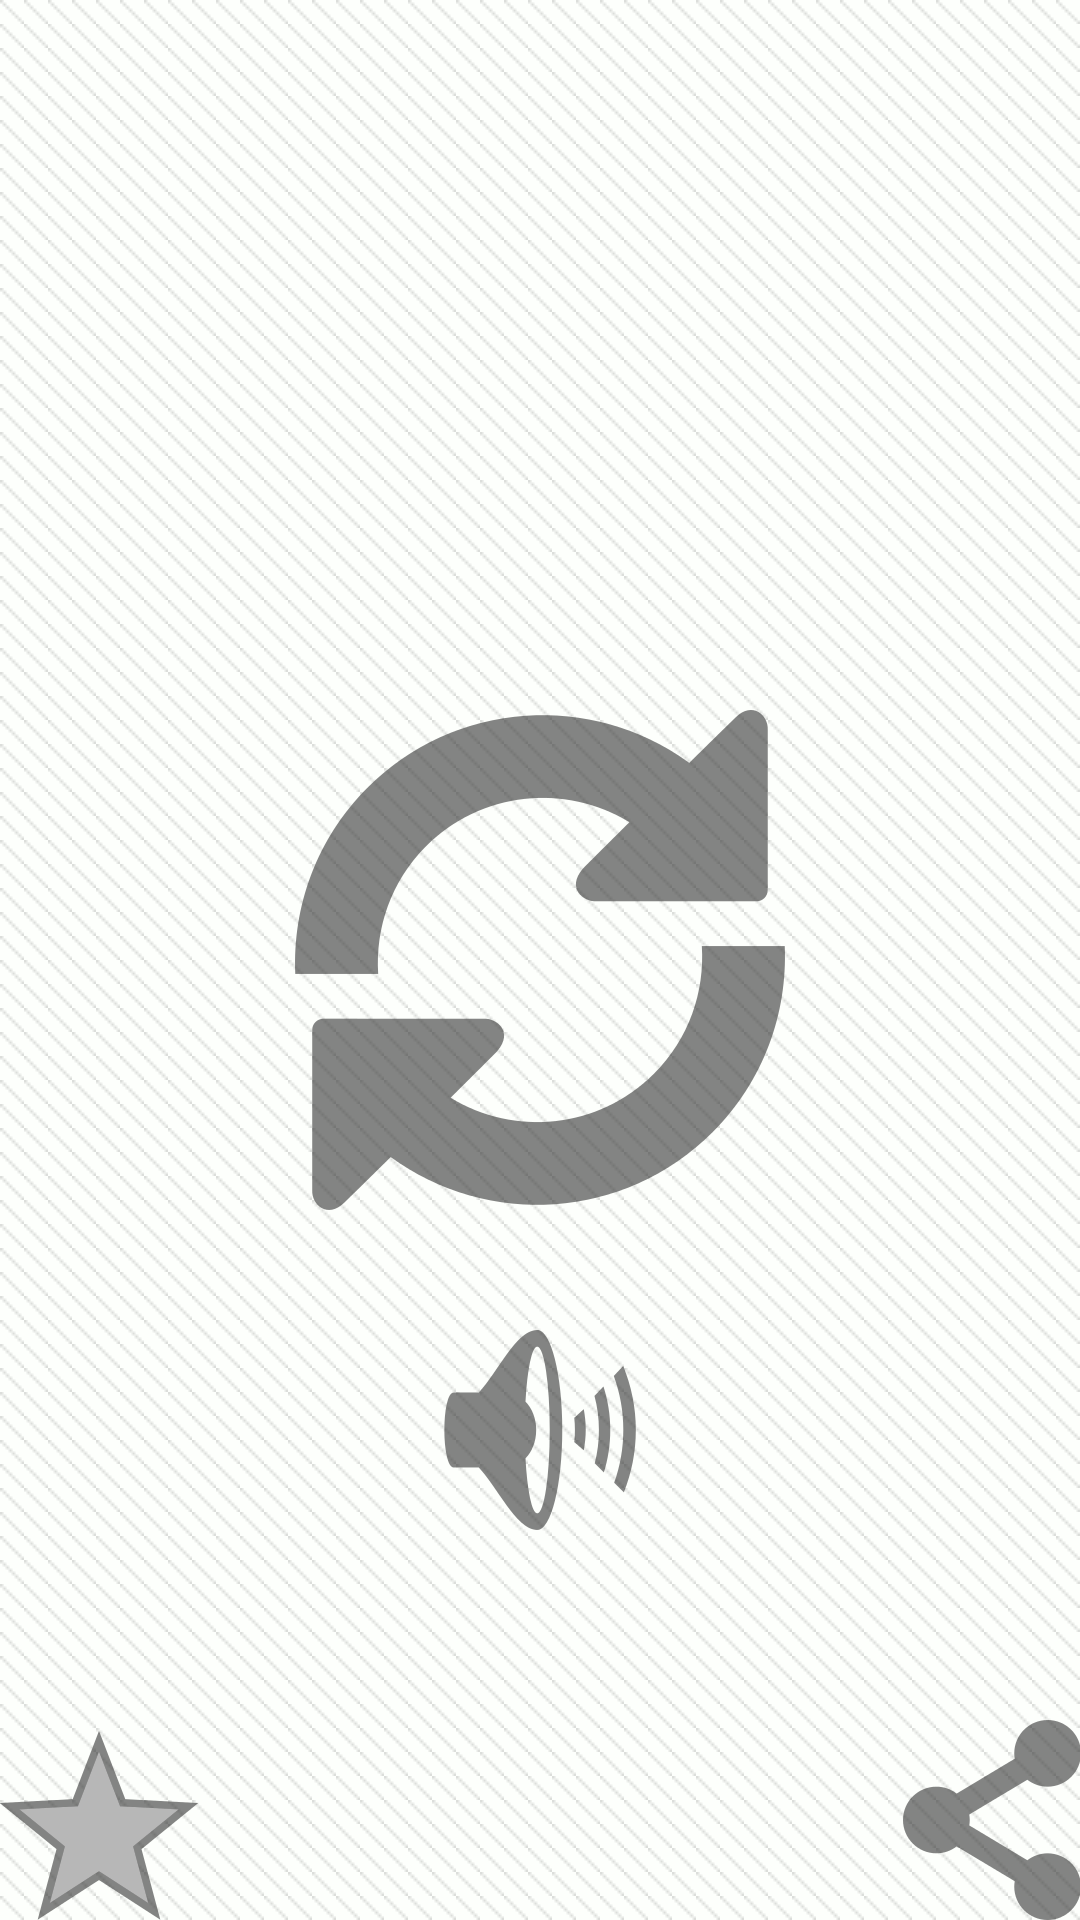

Screen size 1080×1920. Icon name, then its box in pixels as (x1, y1, x2, y2):
condividi audio: (903, 1720, 1080, 1920)
salva nei preferiti: (0, 1731, 198, 1920)
